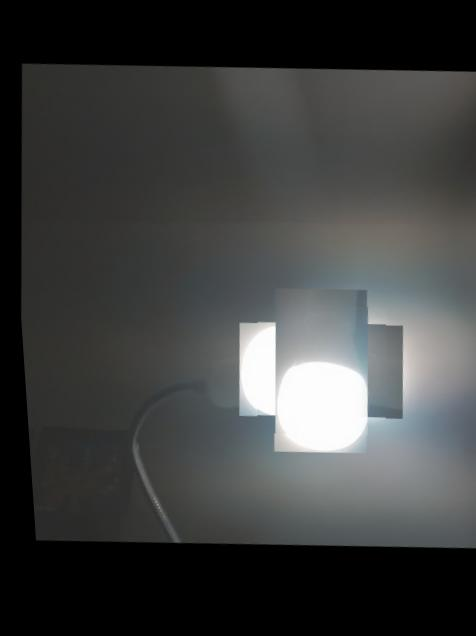TubeLight: (242, 302, 386, 445)
